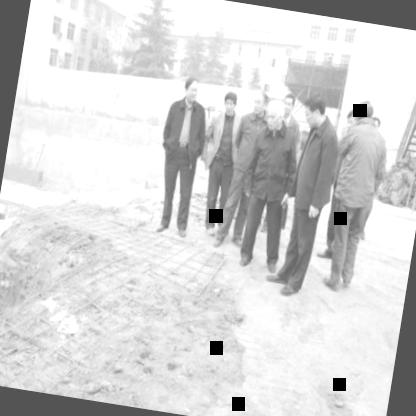head: (298, 90, 332, 135), (256, 93, 288, 137), (178, 71, 204, 108), (353, 95, 376, 135), (246, 86, 271, 121), (218, 86, 241, 120), (278, 88, 298, 118), (340, 106, 358, 138)
